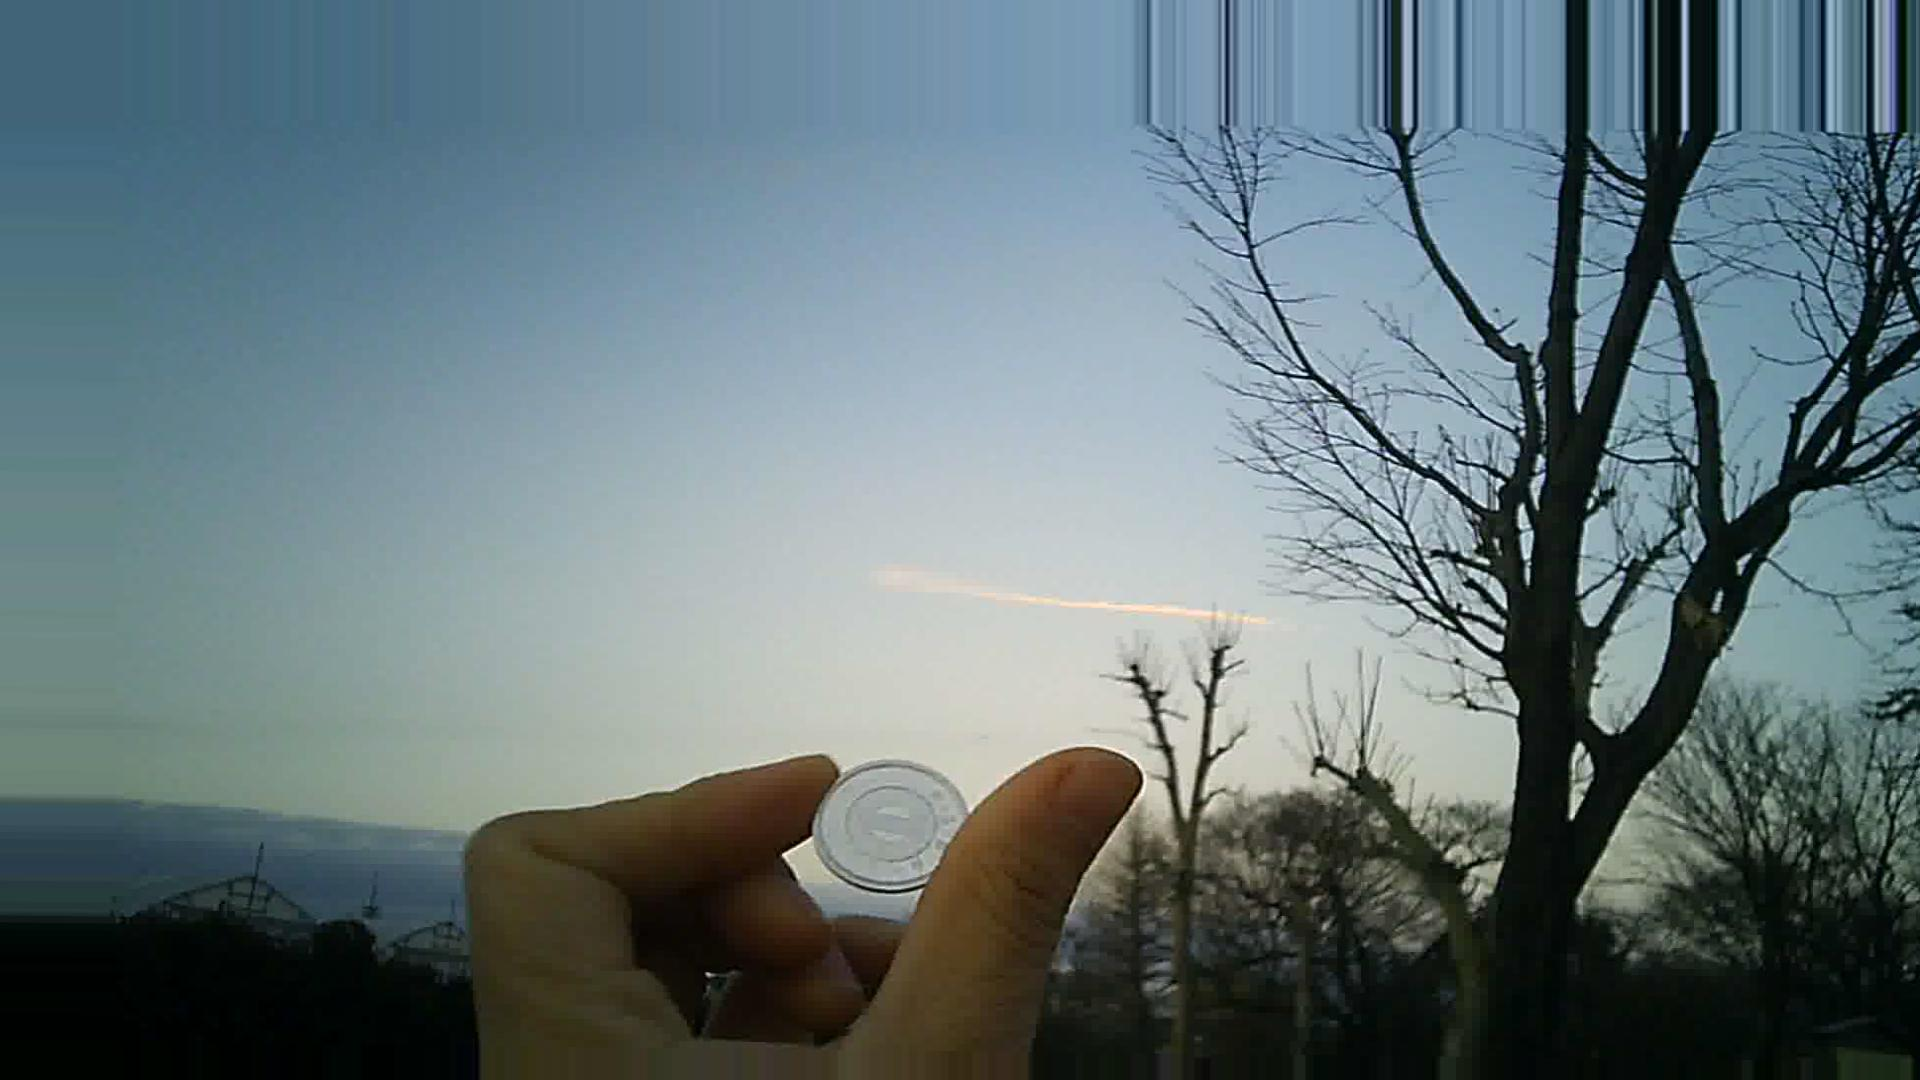1 Yen: (808, 745, 986, 907)
